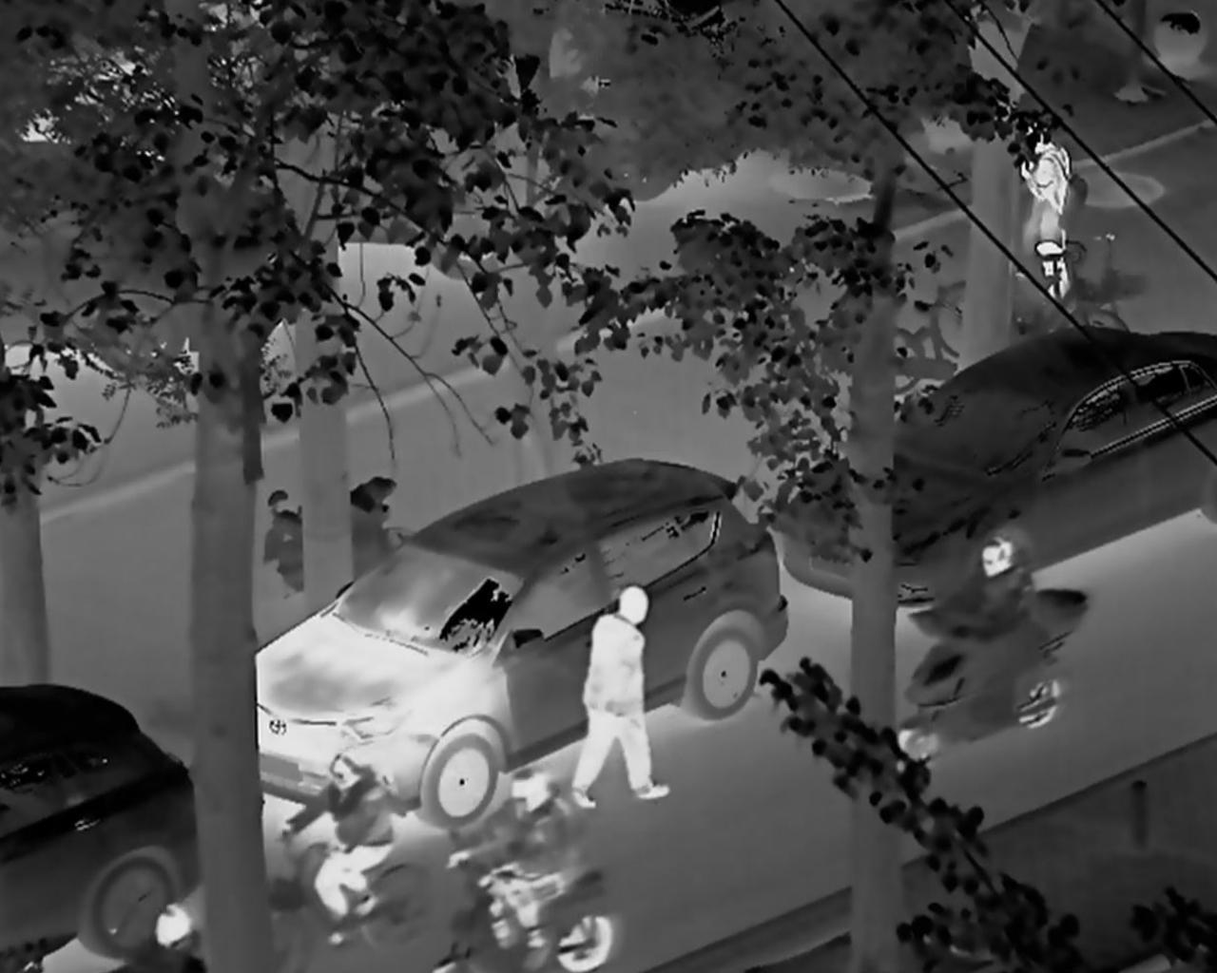person: (561, 582, 671, 812), (449, 764, 578, 948), (280, 746, 395, 948), (962, 538, 1035, 745), (1006, 126, 1071, 305)
